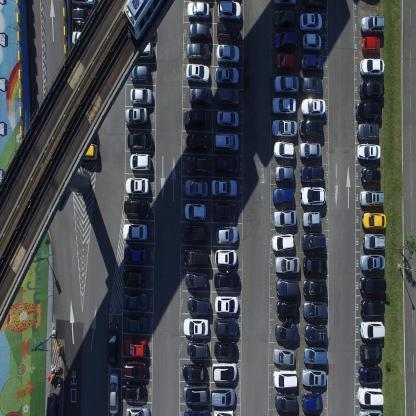car: (299, 186, 326, 208), (274, 390, 298, 414), (186, 60, 210, 84), (211, 360, 237, 382), (273, 322, 299, 344), (355, 101, 382, 122), (123, 197, 150, 218), (358, 276, 386, 296), (107, 321, 119, 367), (210, 384, 235, 406), (302, 300, 327, 322), (275, 276, 300, 298), (299, 118, 324, 140), (301, 231, 326, 253), (182, 382, 207, 404), (214, 269, 240, 290), (302, 345, 328, 366), (360, 57, 386, 78), (216, 22, 242, 43), (213, 131, 239, 152), (185, 153, 211, 174), (182, 223, 208, 244), (182, 316, 209, 336), (182, 246, 209, 266), (214, 316, 238, 338), (303, 322, 327, 344), (275, 298, 299, 320), (183, 106, 207, 128), (187, 40, 211, 62), (301, 367, 326, 388), (357, 386, 383, 406), (272, 368, 298, 388), (274, 254, 300, 274), (359, 80, 385, 100), (71, 7, 97, 27), (127, 130, 153, 150), (186, 130, 209, 152), (215, 293, 239, 314), (216, 42, 240, 63), (214, 153, 238, 174), (74, 141, 98, 162), (124, 106, 148, 127), (302, 279, 327, 299), (360, 299, 385, 319), (301, 98, 326, 118), (274, 74, 299, 94), (181, 360, 206, 380), (184, 177, 209, 197), (211, 177, 237, 196), (302, 257, 328, 276), (361, 212, 387, 231), (359, 190, 385, 209), (299, 164, 325, 183), (183, 200, 206, 221), (124, 336, 147, 357), (215, 224, 239, 244), (213, 339, 237, 359), (358, 365, 382, 385), (357, 142, 381, 162), (361, 14, 385, 34), (271, 232, 295, 252), (215, 65, 239, 85), (216, 108, 240, 128), (130, 39, 154, 59), (122, 360, 146, 380), (123, 245, 147, 265), (218, 0, 242, 20), (360, 321, 385, 340), (121, 381, 146, 400), (359, 254, 385, 272), (272, 118, 298, 136), (272, 346, 294, 367), (274, 7, 296, 28), (300, 52, 322, 73), (356, 123, 379, 143), (273, 208, 296, 228), (186, 294, 209, 314), (187, 0, 210, 20), (189, 86, 213, 105), (123, 291, 147, 310), (123, 221, 147, 240), (122, 267, 144, 287), (129, 151, 151, 171), (300, 74, 322, 94), (273, 139, 295, 159), (301, 391, 323, 411), (109, 371, 119, 415), (214, 247, 237, 266), (359, 343, 382, 362), (362, 233, 385, 252), (272, 186, 295, 205), (217, 87, 240, 106), (184, 269, 207, 288), (299, 12, 322, 31), (274, 31, 297, 50), (125, 176, 149, 194), (213, 202, 237, 220), (271, 96, 296, 113), (275, 51, 295, 72), (130, 86, 152, 105), (125, 314, 148, 332), (298, 141, 321, 159), (361, 168, 382, 187), (274, 164, 295, 183), (188, 21, 210, 39), (72, 28, 94, 46), (131, 63, 150, 83), (302, 31, 321, 51), (301, 210, 322, 228), (186, 338, 207, 356), (363, 36, 381, 56), (303, 0, 326, 12), (46, 392, 58, 415), (125, 405, 151, 415), (183, 407, 210, 415), (358, 408, 382, 416), (212, 408, 235, 416), (70, 0, 96, 7), (273, 0, 297, 7)
